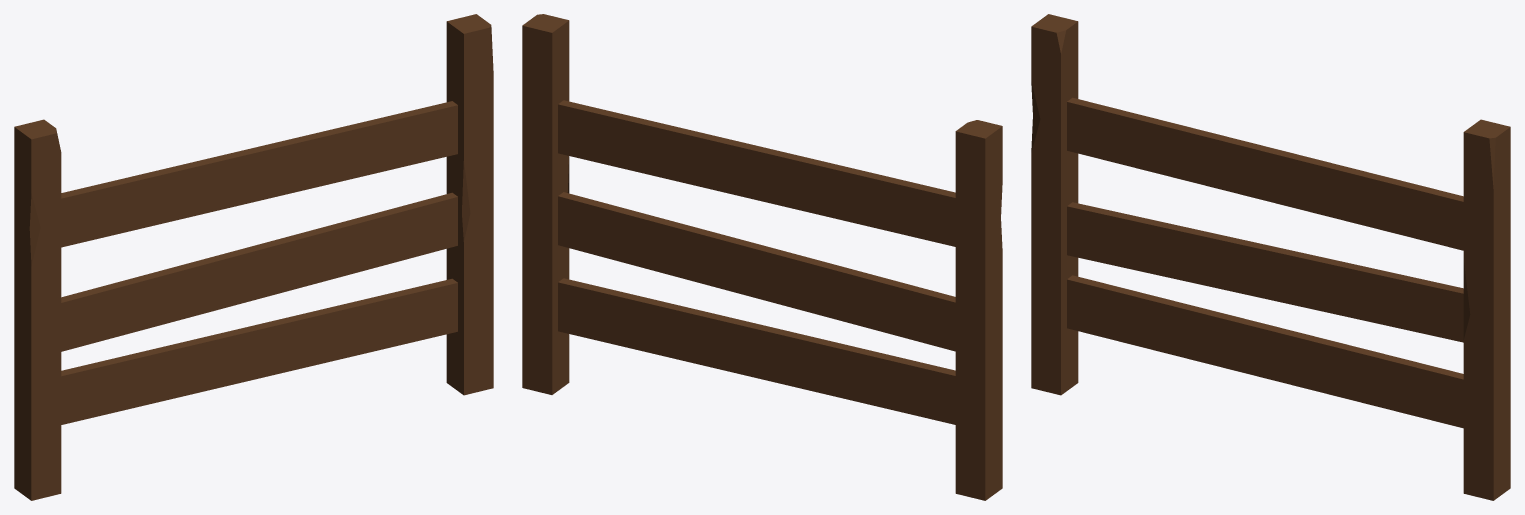
The model's file is fence03.fbx.
The picture shows the model from 3 angles, left to right: view 1: azimuth 30°, elevation 25°; view 2: azimuth 150°, elevation 25°; view 3: azimuth 330°, elevation 25°; orthographic projection.
Visible parts, largest first — view 1: fence03; view 2: fence03; view 3: fence03.
Boxes of the visible parts, x1,y1,x2,y2 form: fence03: [14, 14, 493, 500]; fence03: [522, 14, 1002, 500]; fence03: [1031, 14, 1510, 500].
Bounding box in the file's own units: 209 × 156 × 13.52.
